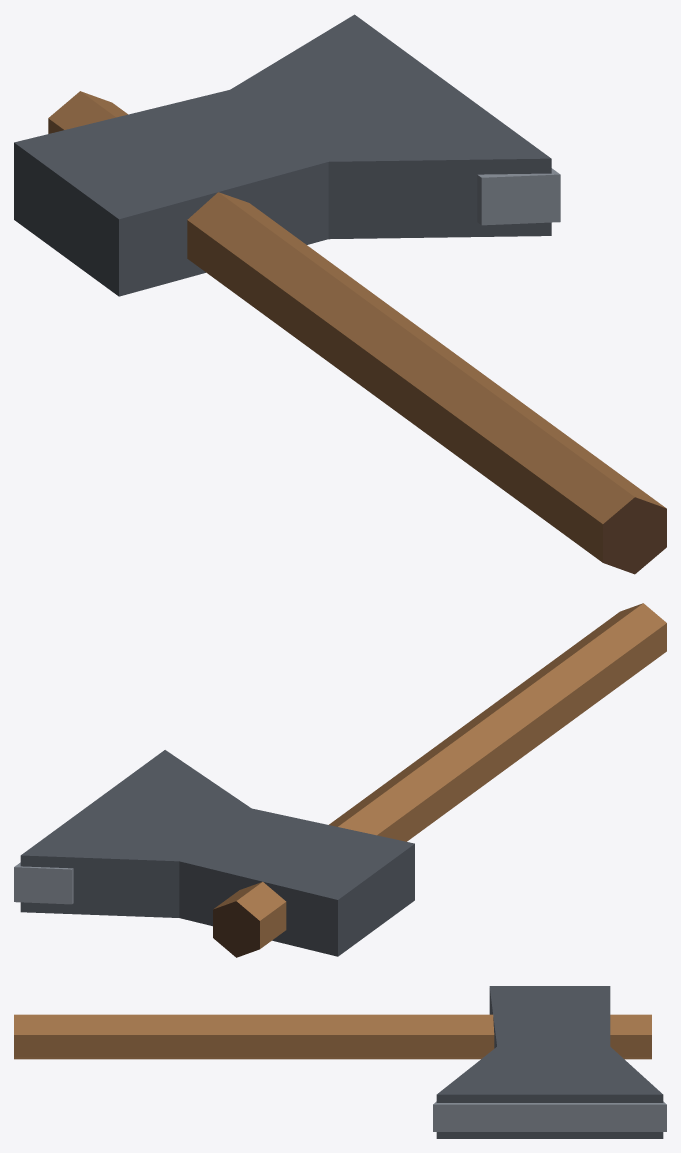
File: prop_axe.glb
3 views of the same model, one above another, from view 1: azimuth 30°, elevation 25°; view 2: azimuth 150°, elevation 25°; view 3: azimuth 270°, elevation 25° (orthographic). The views are drawn at different scales.
Parts seen in each view (by area): view 1: prop_axe; view 2: prop_axe; view 3: prop_axe.
Boxes of the visible parts, <box> form: prop_axe: <box>14,14,666,574</box>; prop_axe: <box>14,603,666,957</box>; prop_axe: <box>14,986,666,1138</box>.
Bounding box in the file's own units: 0.069 × 0.013 × 0.173.
Materials: 1 (1 with a texture image).
